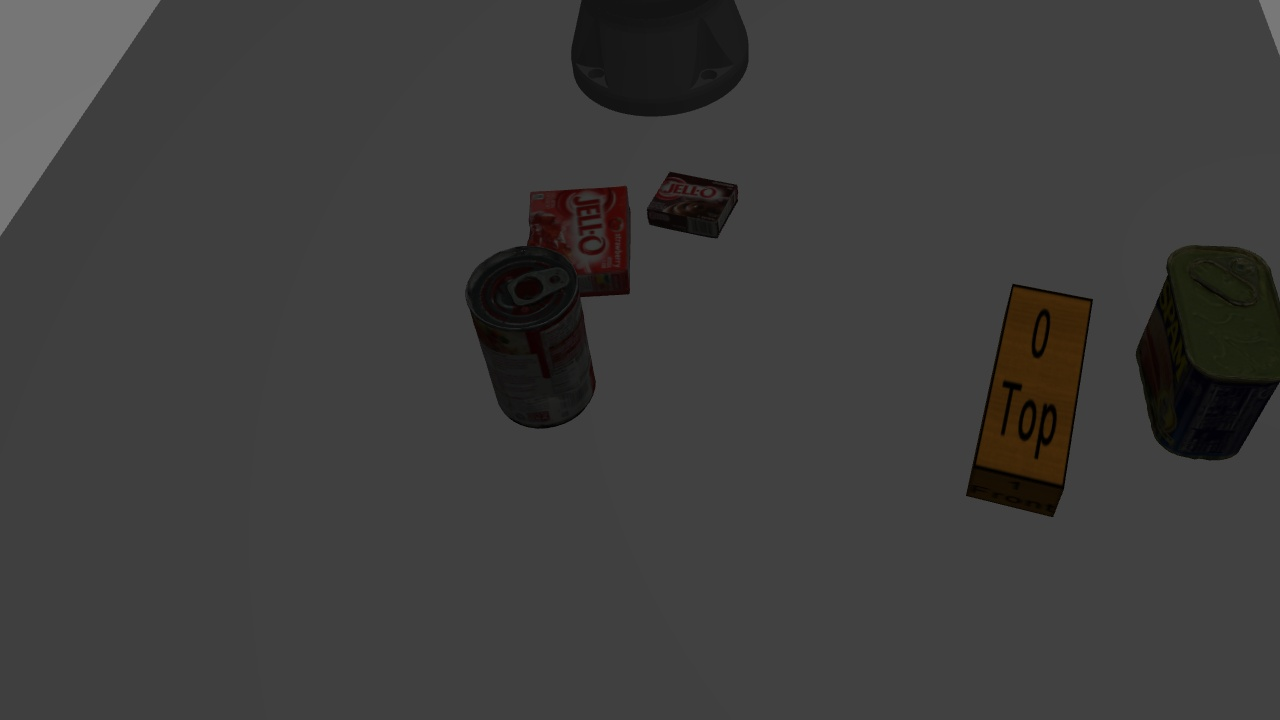gelatin_box: (523, 186, 640, 301)
jenga: (963, 266, 1099, 522)
potted_meat_can: (1132, 237, 1277, 458)
pudding_box: (644, 165, 743, 242)
tomato_soup_can: (462, 241, 604, 435)
